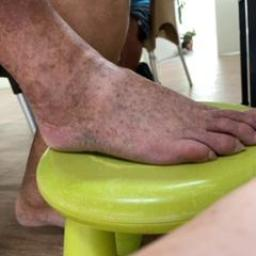Lateral View -Right Foot-: (8, 26, 255, 186)
